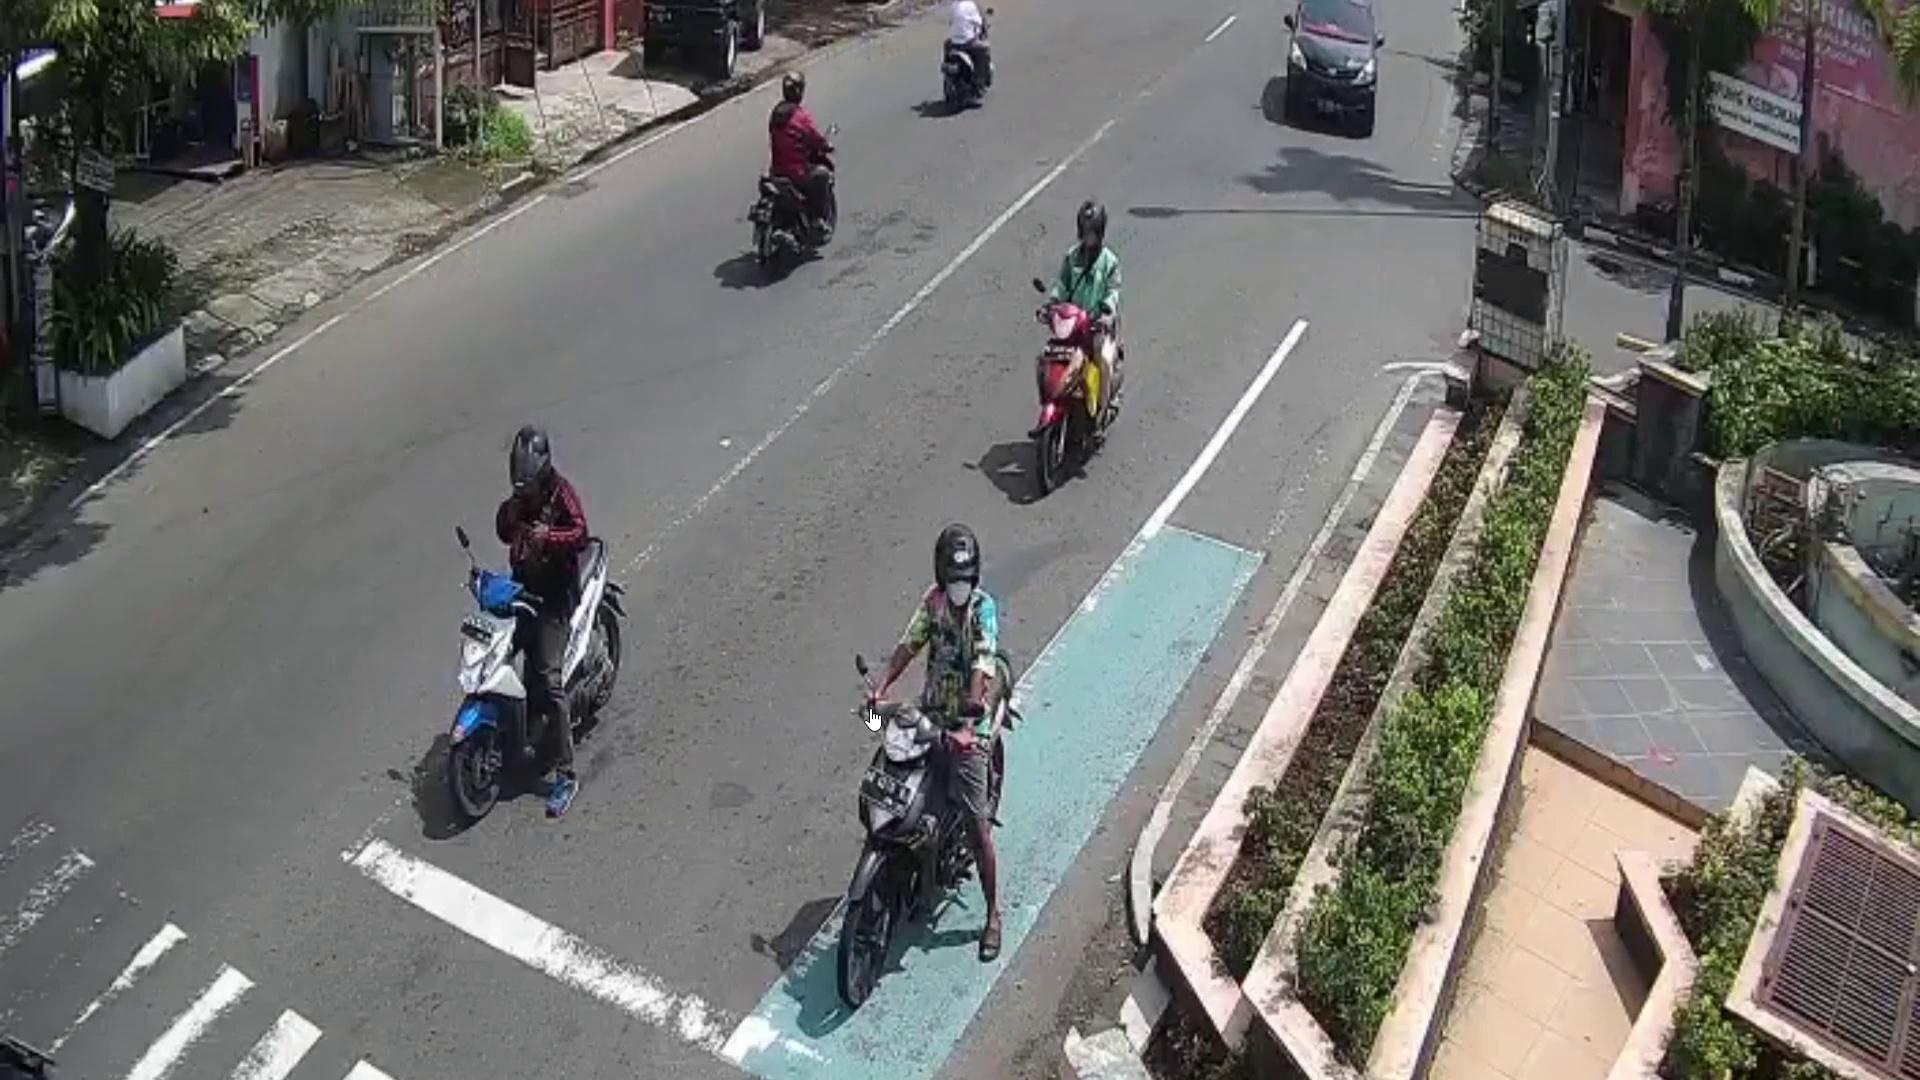car: (1284, 0, 1381, 141)
motorbike: (844, 650, 1023, 1006), (446, 535, 625, 823), (1034, 303, 1124, 491), (748, 132, 835, 280)
